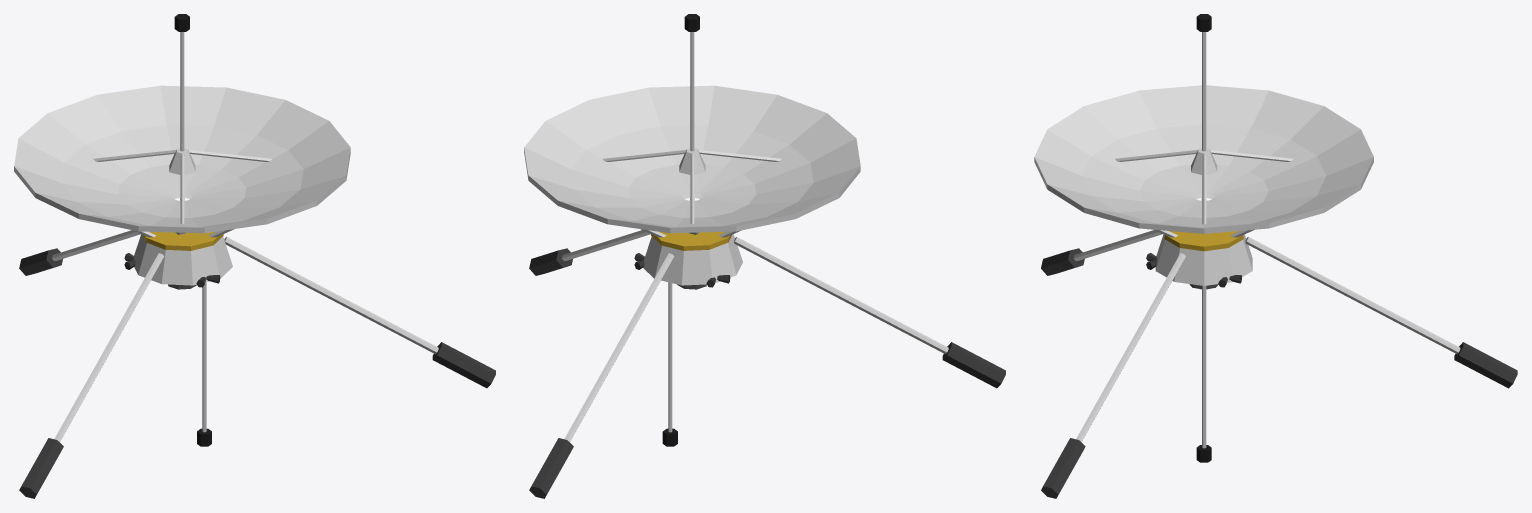
File: Probe_Voyager_v1.glb
The picture shows the model from 3 angles, left to right: view 1: azimuth 30°, elevation 25°; view 2: azimuth 150°, elevation 25°; view 3: azimuth 270°, elevation 25°; orthographic projection.
Parts seen in each view (by area): view 1: Probe_Dish, Probe_Bus, Probe_Boom_3, Probe_Boom_2, Probe_RTG_3, Probe_RTG_2, Probe_Deck, Probe_MagBoom_Bot, Probe_RTG_1, Probe_Boom_1, Probe_MagBoom_Top; view 2: Probe_Dish, Probe_Bus, Probe_Boom_2, Probe_Boom_1, Probe_RTG_2, Probe_RTG_1, Probe_Deck, Probe_MagBoom_Bot, Probe_RTG_3, Probe_Boom_3, Probe_MagBoom_Top; view 3: Probe_Dish, Probe_Bus, Probe_Boom_1, Probe_Boom_3, Probe_RTG_1, Probe_RTG_3, Probe_Deck, Probe_MagBoom_Bot, Probe_RTG_2, Probe_Boom_2, Probe_MagBoom_Top.
Part boxes in pixels (x1=…): Probe_Dish: x1=14, y1=85, x2=350, y2=233; Probe_Bus: x1=133, y1=234, x2=232, y2=285; Probe_Boom_3: x1=224, y1=236, x2=438, y2=354; Probe_Boom_2: x1=54, y1=253, x2=164, y2=441; Probe_RTG_3: x1=432, y1=342, x2=495, y2=388; Probe_RTG_2: x1=19, y1=438, x2=63, y2=498; Probe_Deck: x1=143, y1=231, x2=223, y2=250; Probe_MagBoom_Bot: x1=202, y1=282, x2=206, y2=432; Probe_RTG_1: x1=19, y1=248, x2=62, y2=275; Probe_Boom_1: x1=52, y1=230, x2=140, y2=261; Probe_MagBoom_Top: x1=180, y1=32, x2=184, y2=151; Probe_Dish: x1=524, y1=85, x2=860, y2=233; Probe_Bus: x1=643, y1=234, x2=742, y2=285; Probe_Boom_2: x1=734, y1=236, x2=948, y2=354; Probe_Boom_1: x1=564, y1=253, x2=674, y2=441; Probe_RTG_2: x1=942, y1=342, x2=1005, y2=388; Probe_RTG_1: x1=529, y1=438, x2=573, y2=498; Probe_Deck: x1=651, y1=231, x2=731, y2=250; Probe_MagBoom_Bot: x1=668, y1=282, x2=672, y2=432; Probe_RTG_3: x1=529, y1=248, x2=572, y2=275; Probe_Boom_3: x1=562, y1=230, x2=650, y2=261; Probe_MagBoom_Top: x1=690, y1=32, x2=694, y2=151; Probe_Dish: x1=1034, y1=85, x2=1373, y2=233; Probe_Bus: x1=1155, y1=234, x2=1252, y2=285; Probe_Boom_1: x1=1245, y1=236, x2=1460, y2=353; Probe_Boom_3: x1=1076, y1=253, x2=1185, y2=441; Probe_RTG_1: x1=1454, y1=342, x2=1517, y2=388; Probe_RTG_3: x1=1041, y1=438, x2=1085, y2=498; Probe_Deck: x1=1164, y1=231, x2=1243, y2=251; Probe_MagBoom_Bot: x1=1202, y1=286, x2=1206, y2=448; Probe_RTG_2: x1=1041, y1=248, x2=1084, y2=275; Probe_Boom_2: x1=1073, y1=230, x2=1162, y2=261; Probe_MagBoom_Top: x1=1202, y1=32, x2=1206, y2=151.
Size of the model in its own units: 3.23 by 2.81 by 2.85.
